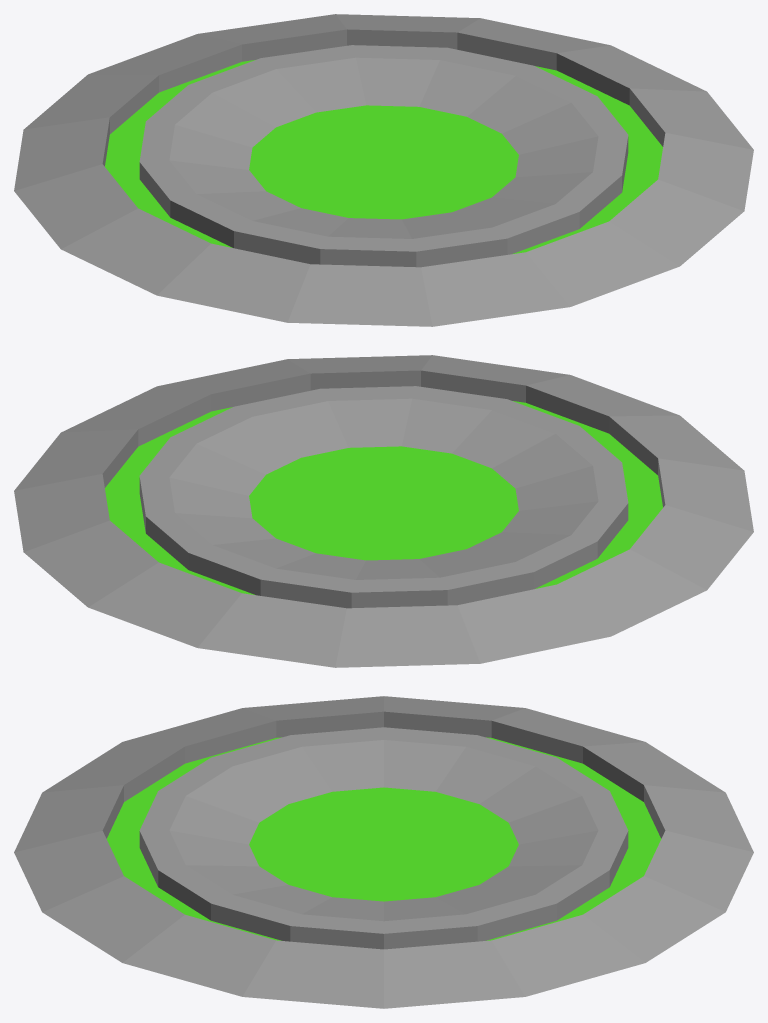
Rendered from Bumper.fbx.
3 views of the same model, one above another, from view 1: azimuth 30°, elevation 25°; view 2: azimuth 150°, elevation 25°; view 3: azimuth 270°, elevation 25° (orthographic).
Visible parts, largest first — view 1: Circle; view 2: Circle; view 3: Circle.
Boxes of the visible parts, box(x1,y1,x2,y2) form: Circle: box(14, 14, 753, 326); Circle: box(14, 355, 753, 667); Circle: box(14, 696, 753, 1008).
Size of the model in its own units: 200 by 6.53 by 200.
